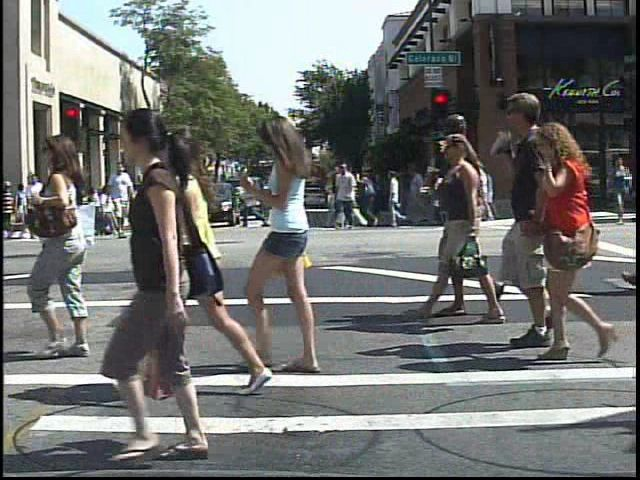person: (86, 100, 249, 468), (151, 119, 284, 399), (463, 82, 567, 353), (246, 110, 343, 375), (17, 129, 119, 365), (536, 124, 633, 365), (106, 161, 140, 242), (60, 163, 91, 242), (469, 158, 500, 230), (3, 174, 19, 240), (29, 168, 42, 242), (97, 179, 118, 224)
